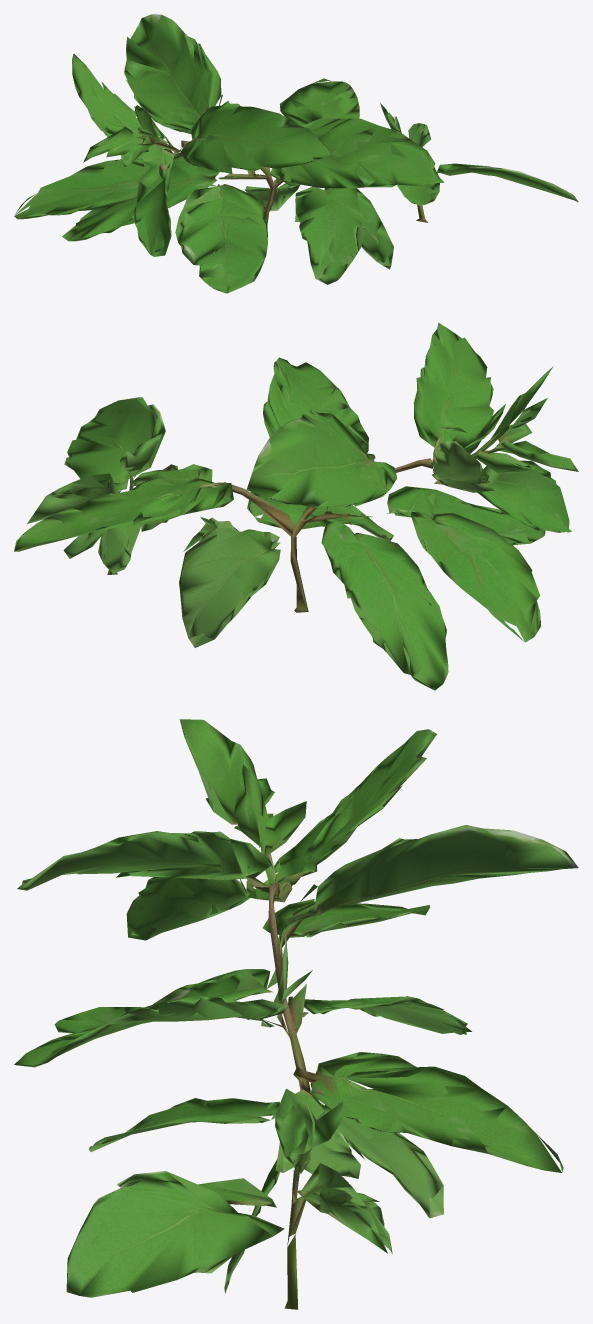
Rendered from Meshy_AI_Mint_0903073611_texture.fbx.
3 views of the same model, one above another, from view 1: azimuth 30°, elevation 25°; view 2: azimuth 150°, elevation 25°; view 3: azimuth 270°, elevation 25° (orthographic). The views are drawn at different scales.
Visible parts, largest first — view 1: mesh_node; view 2: mesh_node; view 3: mesh_node.
Boxes of the visible parts, x1,y1,x2,y2 form: mesh_node: (14, 14, 578, 293); mesh_node: (14, 322, 578, 690); mesh_node: (14, 719, 578, 1309).
Bounding box in the file's own units: 188 × 91.81 × 126.
Materials: 1 (1 with a texture image).
